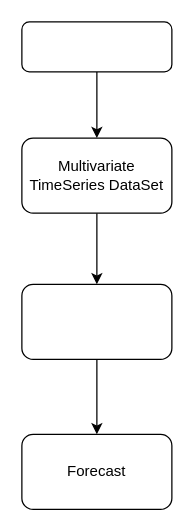
Image size: 194x531. Some labels were removed from this diagram. Here are the shapes that lost their labels. From the top down, the centre of each, then its label:
At (96,46): "Data preprocessing".
At (96,321): "Train the model".
